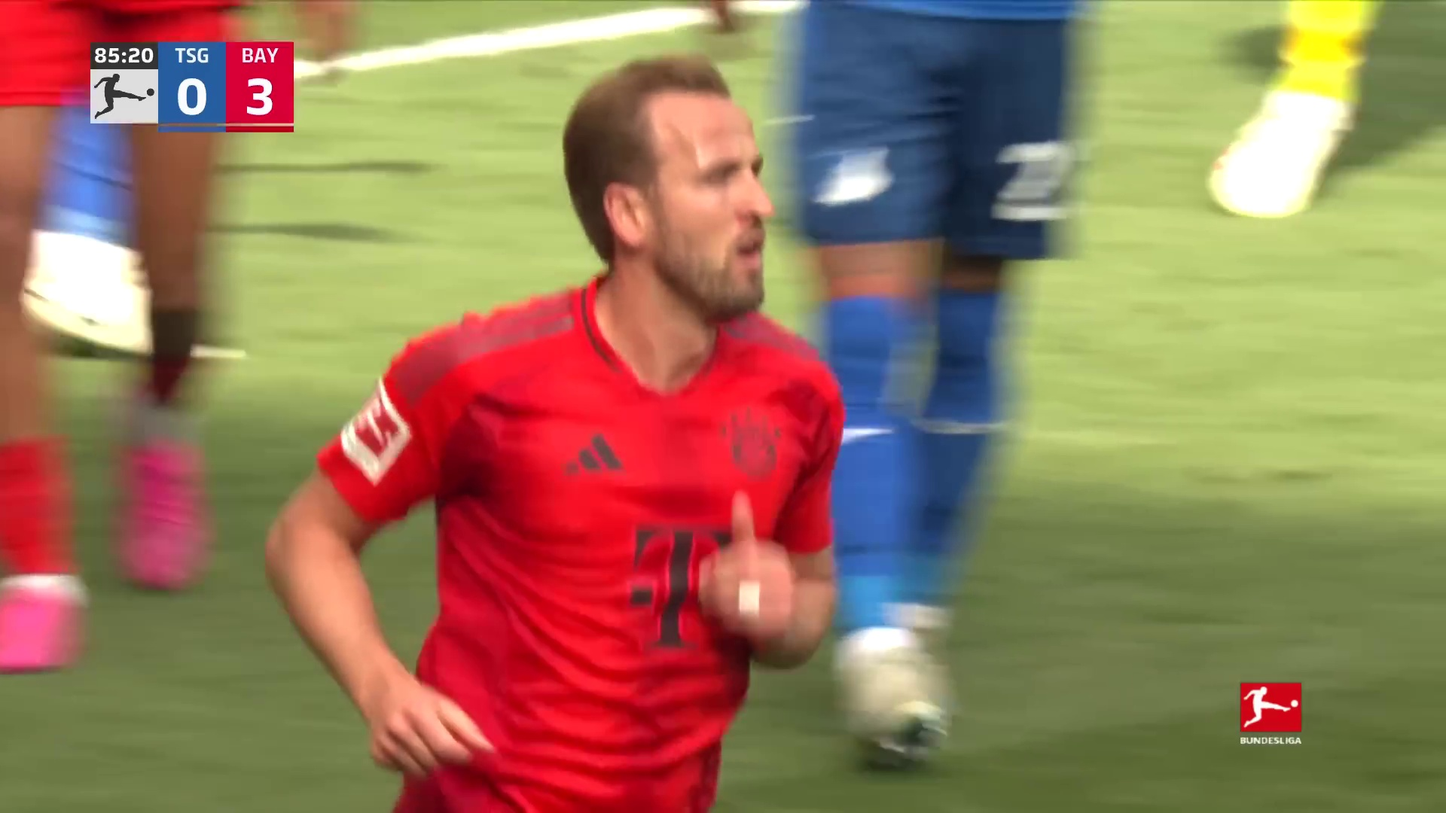player: (261, 45, 853, 813)
